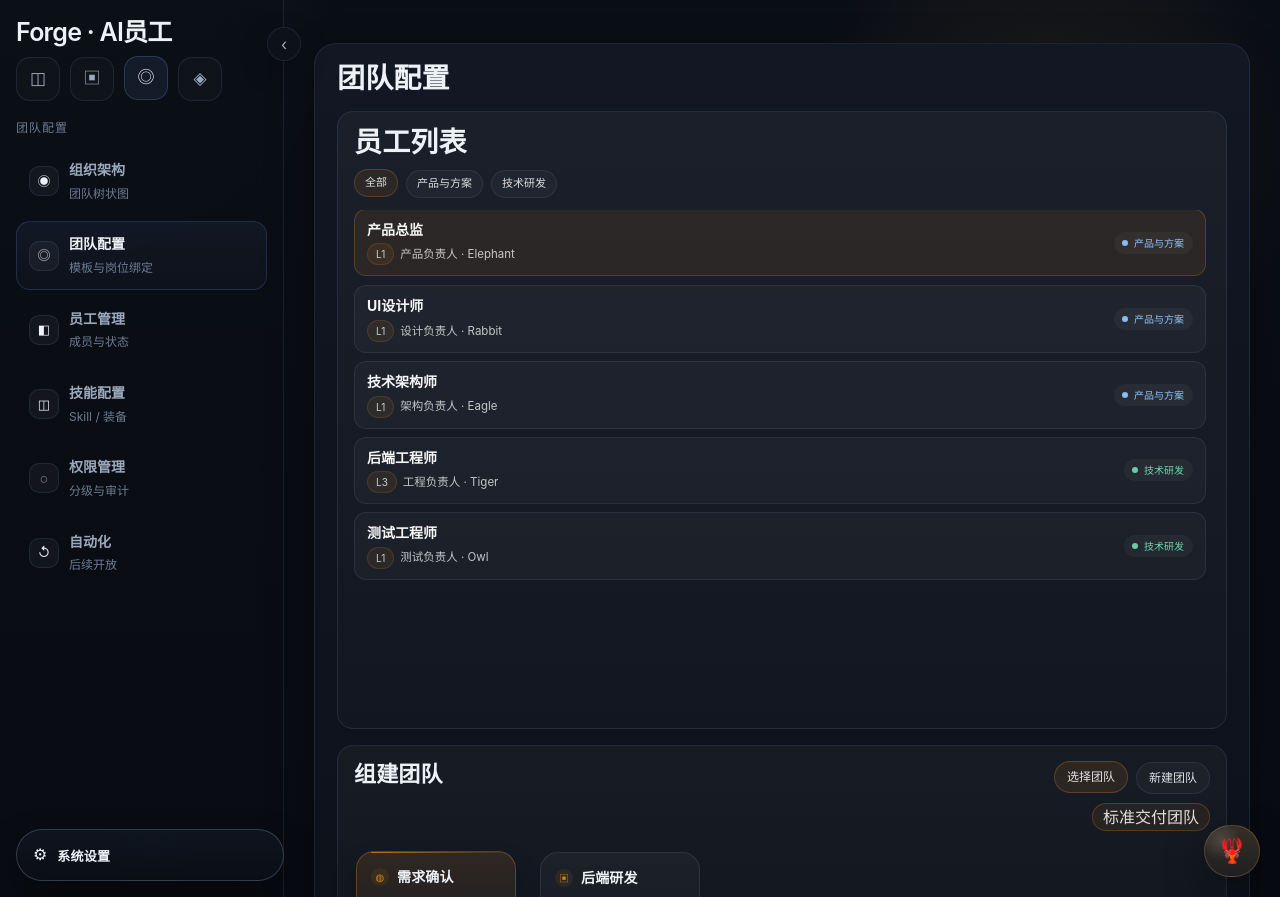
forge page dto components › renders the resolved employee context preview on the team runtime panel
Click the button "◧ 员工管理 成员与状态" at (142, 330), box [16, 296, 267, 364]
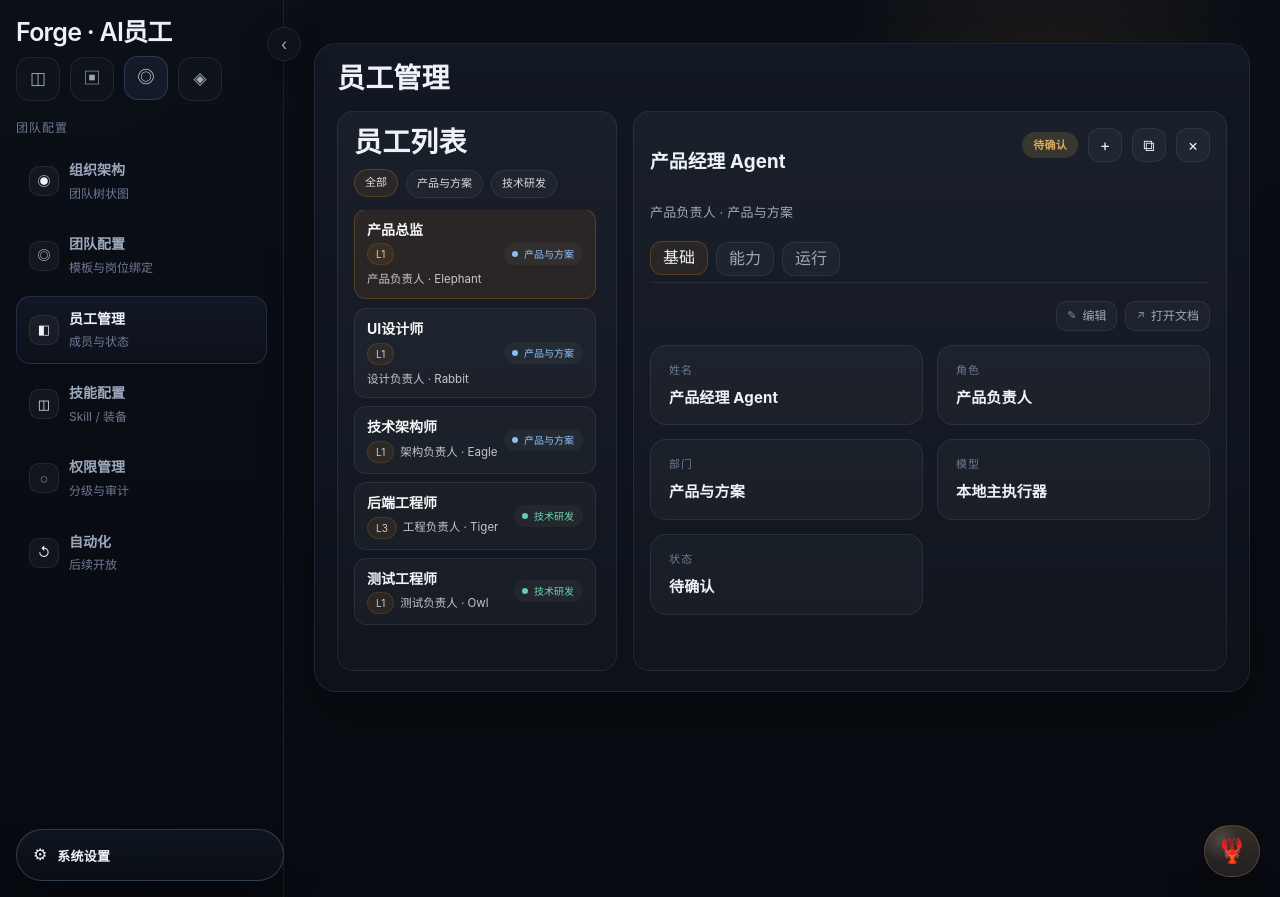
Click the button "运行" at (811, 259), box [782, 242, 840, 276]
(page scrolled)
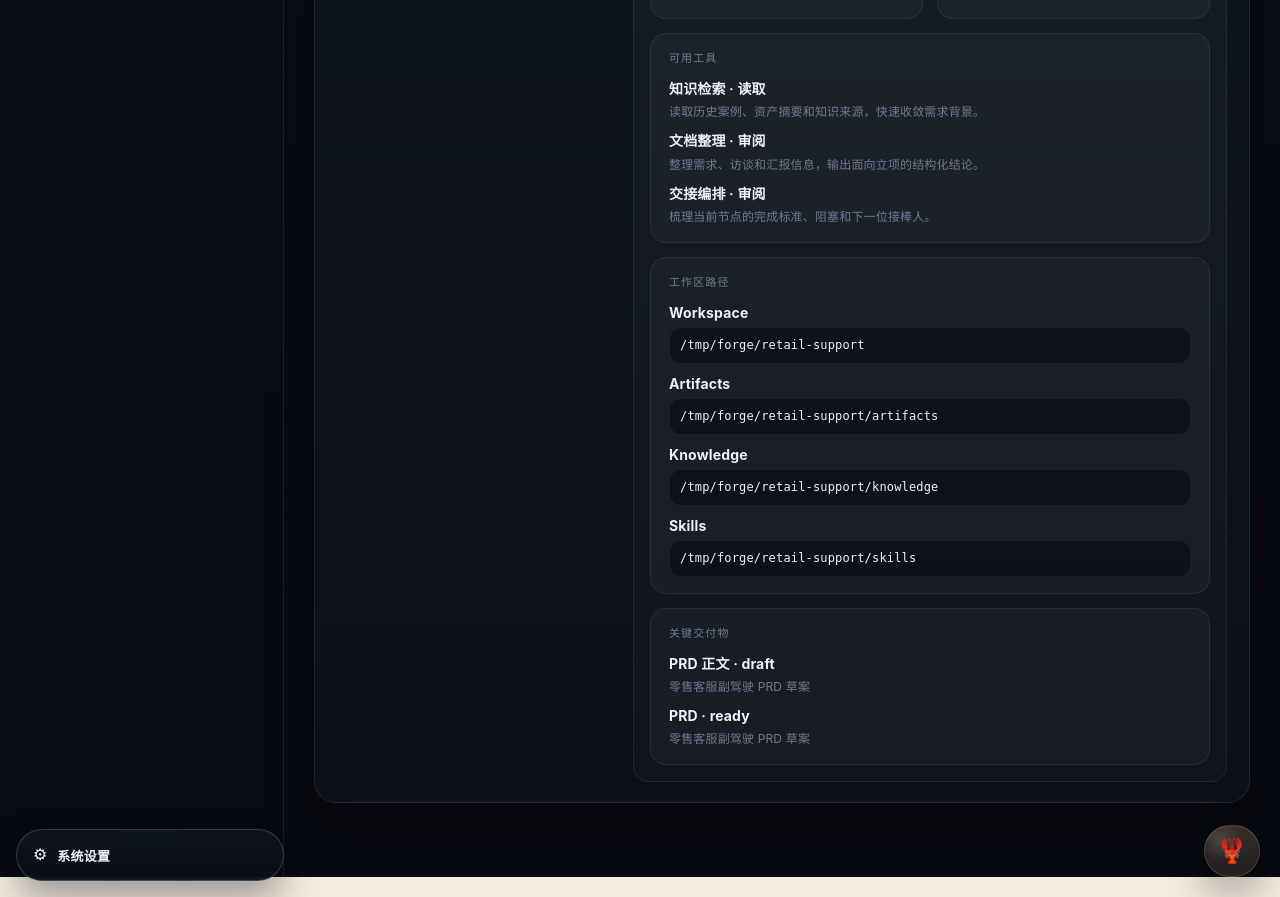
Check: the text "可用工具" is shown, box [669, 52, 717, 65]
Check: the text "工作区路径" is shown, box [669, 276, 730, 289]
Check: the text "关键交付物" is shown, box [669, 627, 730, 640]
